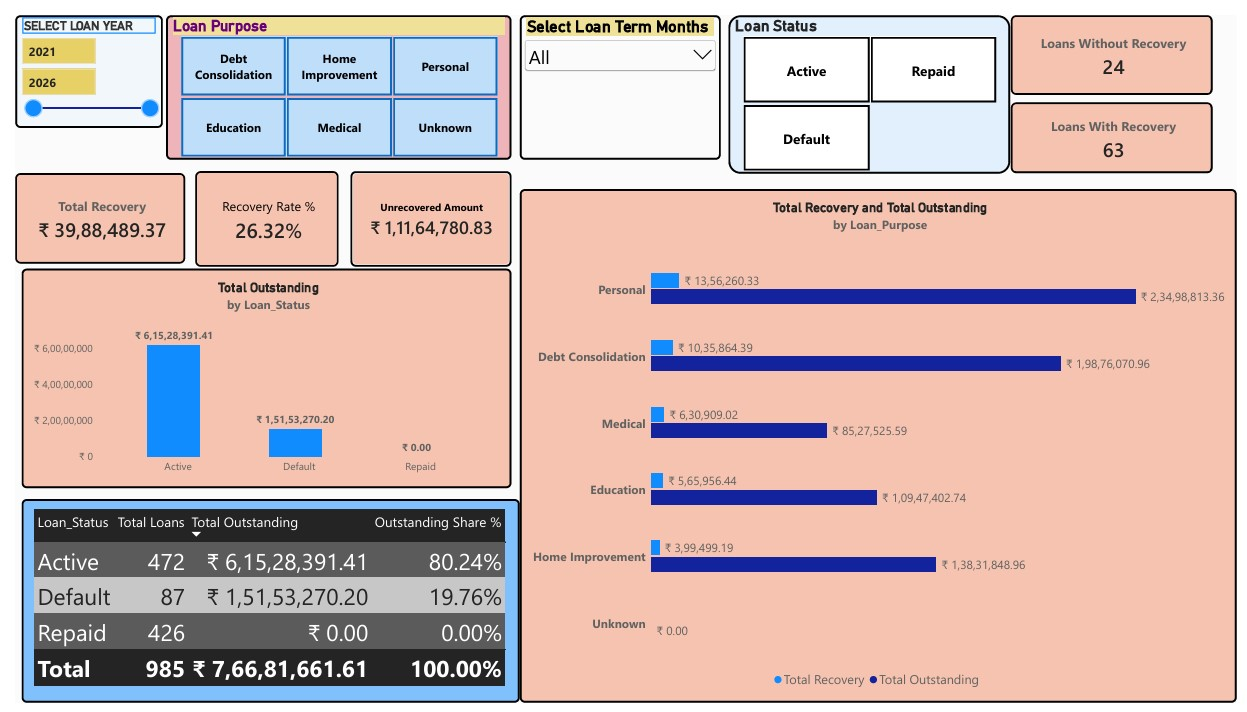

The dashboard page shown, as its layout file describes it:
{"tool":"powerbi","page":{"name":"Repayment and Recovery","canvas":[1920,1080],"ordinal":3},"visuals":[{"type":"slicer","fields":{"Values":["LDR.Loan_Year"]},"box":[0,0,232,177],"z":0},{"type":"slicer","fields":{"Values":["LDR.Loan_Purpose"]},"box":[237.1,0,542.9,227.1],"z":1000},{"type":"slicer","fields":{"Values":["LDR.Loan_Term_Months"]},"box":[792.9,0,315.7,227.1],"z":2000},{"type":"slicer","fields":{"Values":["LDR.Loan_Status"]},"box":[1121.4,0,442.9,248.6],"z":3000},{"type":"cardVisual","fields":{"Data":["LDR.Total Recovery"]},"box":[0,248.3,266.7,141.7],"z":3001},{"type":"cardVisual","fields":{"Data":["LDR.Recovery Rate %"]},"box":[283.3,245,225,150],"z":3002},{"type":"cardVisual","fields":{"Data":["LDR.Unrecovered Amount"]},"box":[526.7,245,253.3,150],"z":3003},{"type":"cardVisual","fields":{"Data":["LDR.Loans With Recovery"]},"box":[1565,136.7,316.7,111.7],"z":3004},{"type":"cardVisual","fields":{"Data":["LDR.Loans Without Recovery"]},"box":[1565,0,316.7,125],"z":3005},{"type":"columnChart","fields":{"Category":["LDR.Loan_Status"],"Y":["LDR.Total Outstanding"]},"box":[10,397.5,770,345],"z":3006},{"type":"clusteredBarChart","fields":{"Category":["LDR.Loan_Purpose"],"Y":["LDR.Total Recovery","LDR.Total Outstanding"]},"box":[793.3,273.3,1126.7,806.7],"z":3007},{"type":"tableEx","fields":{"Values":["LDR.Loan_Status","LDR.Total Loans","LDR.Total Outstanding","LDR.Outstanding Share %"]},"box":[10,760,782.5,320],"z":3008}]}

Visuals, with their boxes in screenshot pixels (x1, y1, x2, y2), scaled from the page's 1920x1080 canvas onto the 1247x712 screenshot:
slicer - LDR.Loan_Year: <region>0, 0, 151, 117</region>
slicer - LDR.Loan_Purpose: <region>154, 0, 507, 150</region>
slicer - LDR.Loan_Term_Months: <region>515, 0, 720, 150</region>
slicer - LDR.Loan_Status: <region>728, 0, 1016, 164</region>
cardVisual - LDR.Total Recovery: <region>0, 164, 173, 257</region>
cardVisual - LDR.Recovery Rate %: <region>184, 162, 330, 260</region>
cardVisual - LDR.Unrecovered Amount: <region>342, 162, 507, 260</region>
cardVisual - LDR.Loans With Recovery: <region>1016, 90, 1222, 164</region>
cardVisual - LDR.Loans Without Recovery: <region>1016, 0, 1222, 82</region>
columnChart - LDR.Loan_Status x LDR.Total Outstanding: <region>6, 262, 507, 489</region>
clusteredBarChart - LDR.Loan_Purpose x LDR.Total Recovery: <region>515, 180, 1246, 711</region>
tableEx - LDR.Loan_Status x LDR.Total Loans: <region>6, 501, 515, 711</region>
